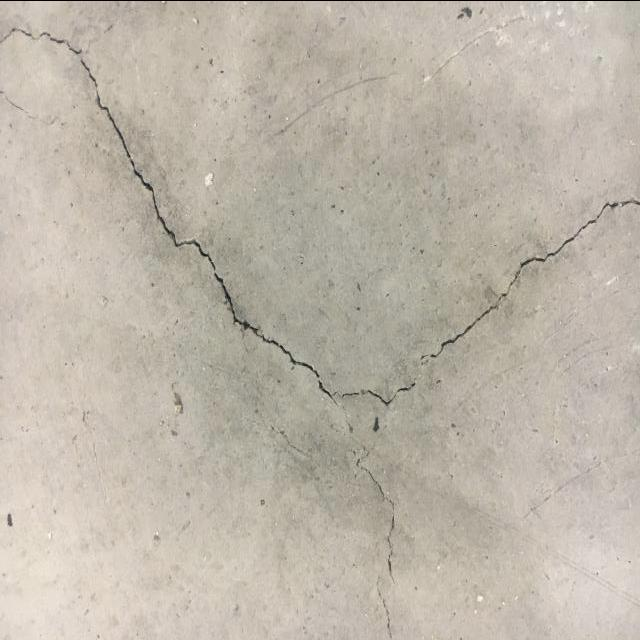SurfaceCrack: (1, 11, 385, 418)
